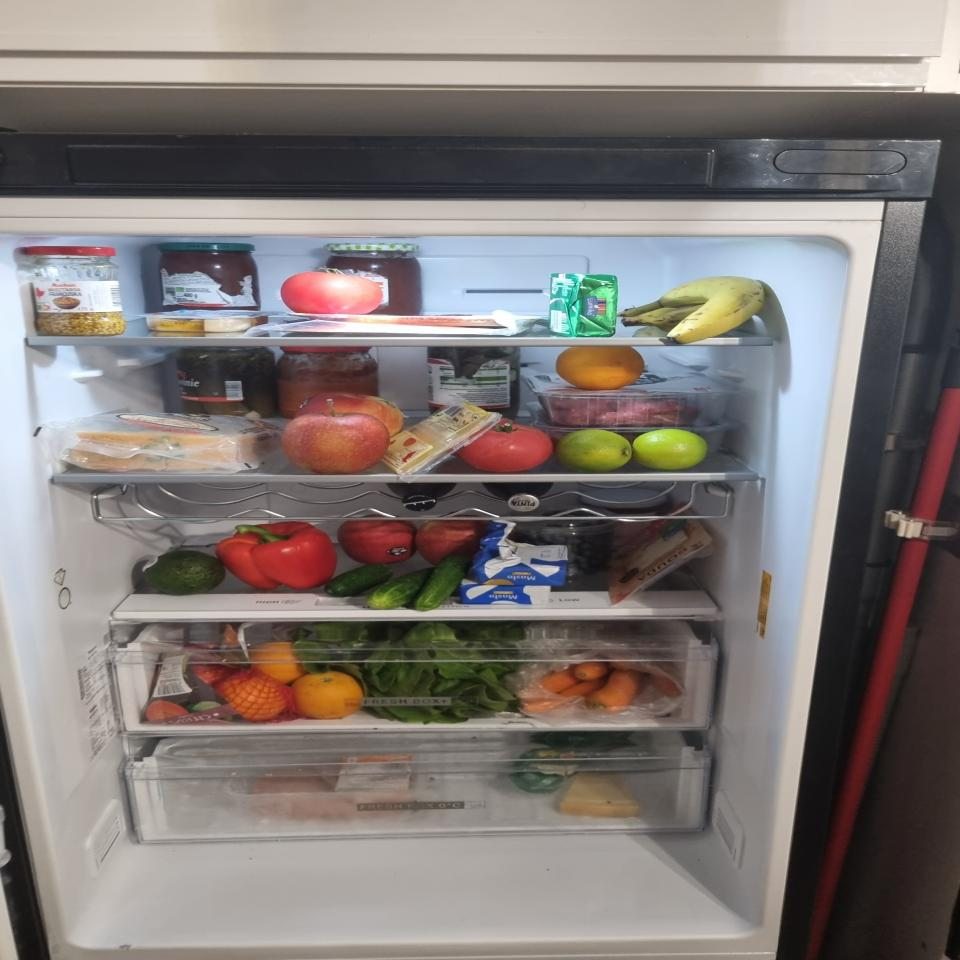Aguacate: (141, 552, 225, 593)
Carne pollo: (232, 752, 412, 820)
Lechuga/Endivia: (356, 629, 525, 723)
Mantequilla: (477, 519, 570, 586), (551, 273, 619, 337), (461, 576, 551, 606)
Manzana: (284, 414, 385, 472), (298, 394, 404, 434), (416, 518, 493, 566), (339, 518, 414, 564)
Pepino: (323, 558, 469, 611)
Plátano: (620, 275, 766, 344)
Queso: (601, 505, 715, 604), (383, 404, 492, 474), (72, 431, 258, 470), (554, 775, 640, 818)
Tomate: (278, 272, 384, 315), (462, 421, 551, 472)
Zanahoria: (520, 656, 683, 714)
bell pepper: (218, 521, 334, 589)
blueberries: (521, 516, 618, 571)
lime: (633, 428, 706, 471), (558, 430, 632, 472)
orange: (222, 642, 366, 721), (557, 345, 644, 389)
